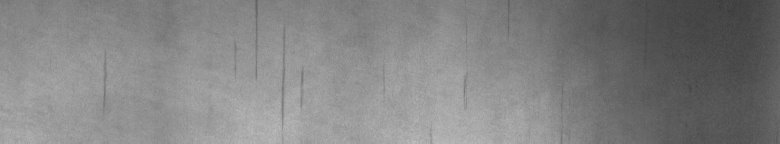ka: (255, 4, 304, 125)
